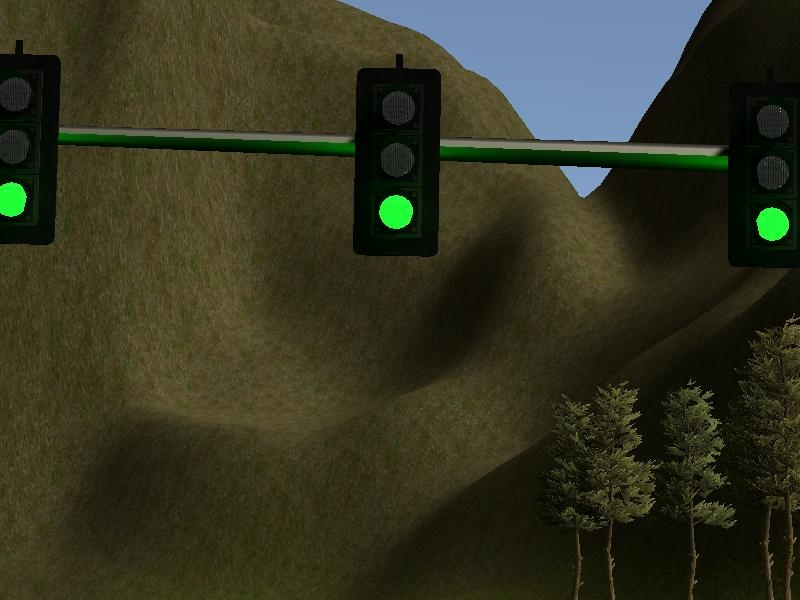green: (348, 64, 444, 258), (725, 76, 800, 272), (1, 52, 64, 248)
